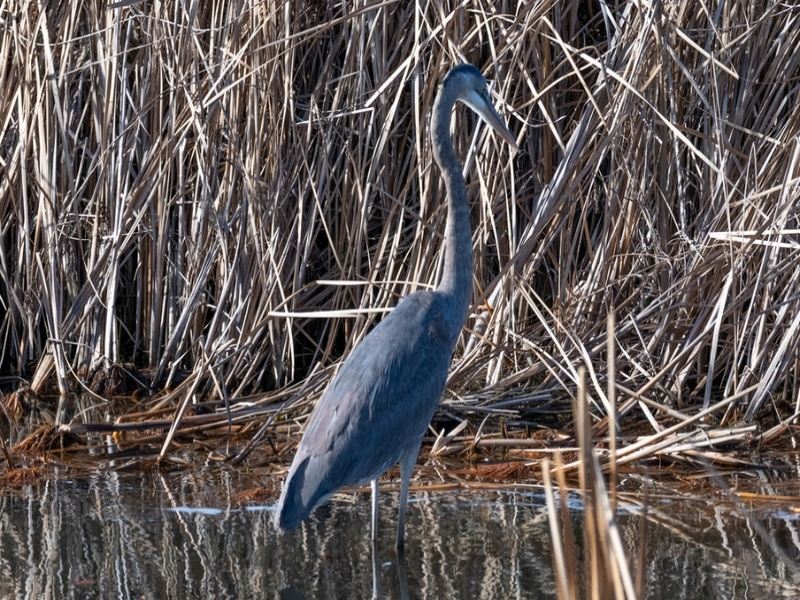heron: (268, 59, 519, 559)
